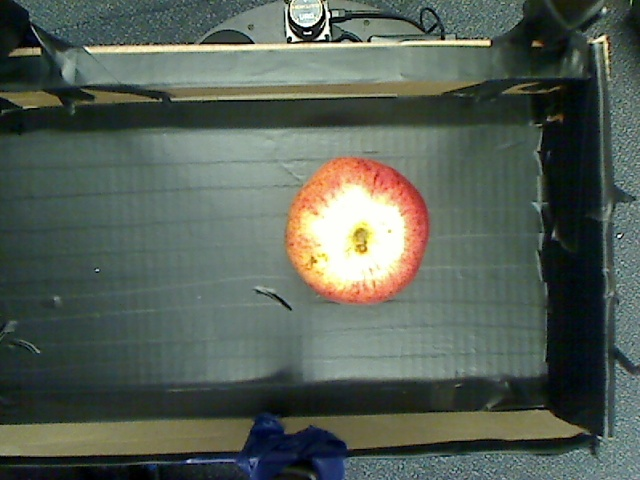apple: (270, 145, 437, 314)
